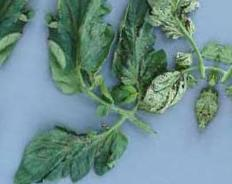Tomato leaf bacterial spot: (29, 0, 132, 107), (15, 107, 127, 184), (139, 60, 198, 124), (124, 0, 202, 40)
